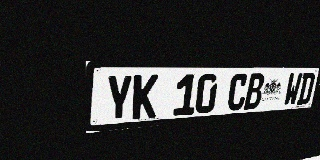0: (194, 74, 218, 114)
1: (173, 74, 198, 116)
B: (243, 73, 265, 110)
C: (226, 73, 249, 111)
D: (296, 73, 316, 105)
K: (132, 74, 159, 120)
W: (283, 73, 303, 106)
Y: (105, 75, 133, 122)
